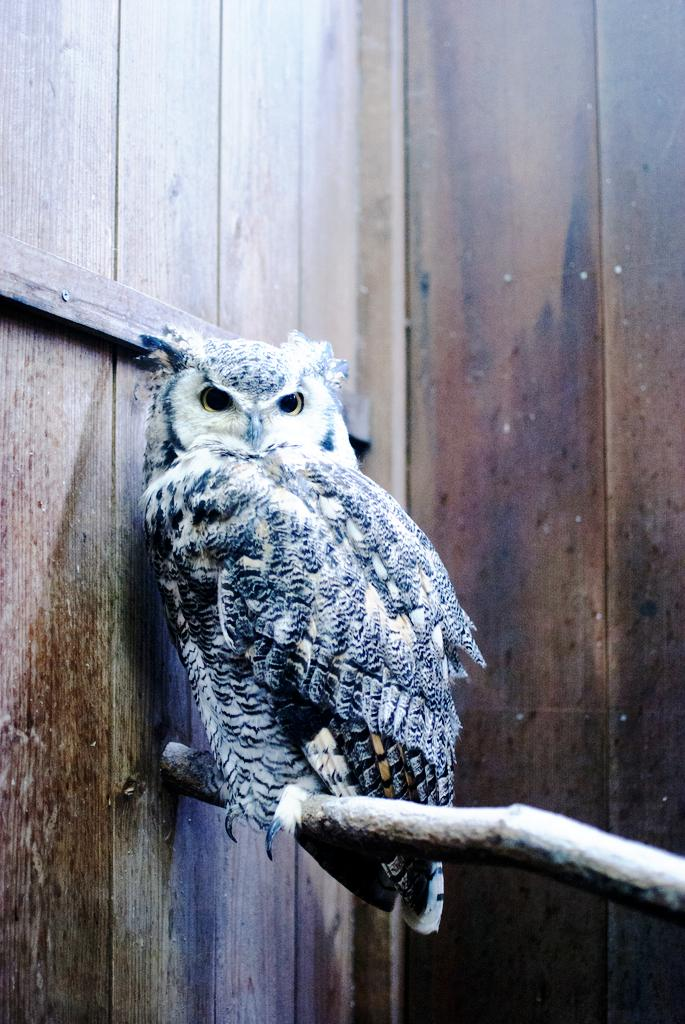Owl: (124, 319, 488, 942)
